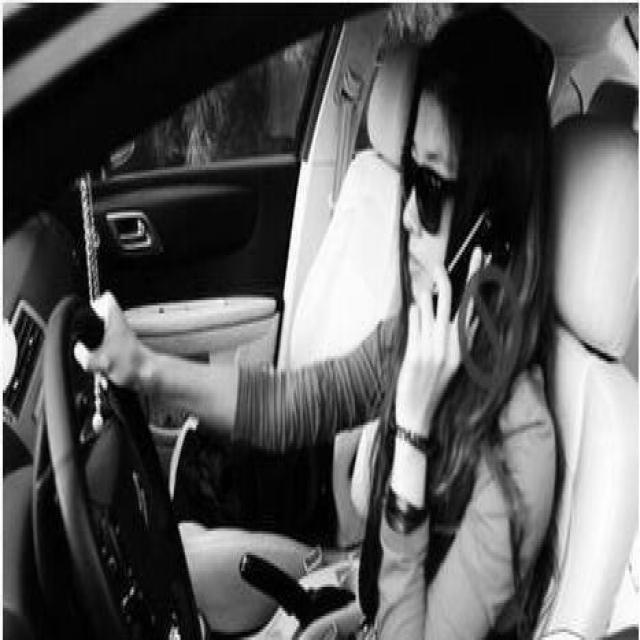phone: (393, 175, 514, 417)
